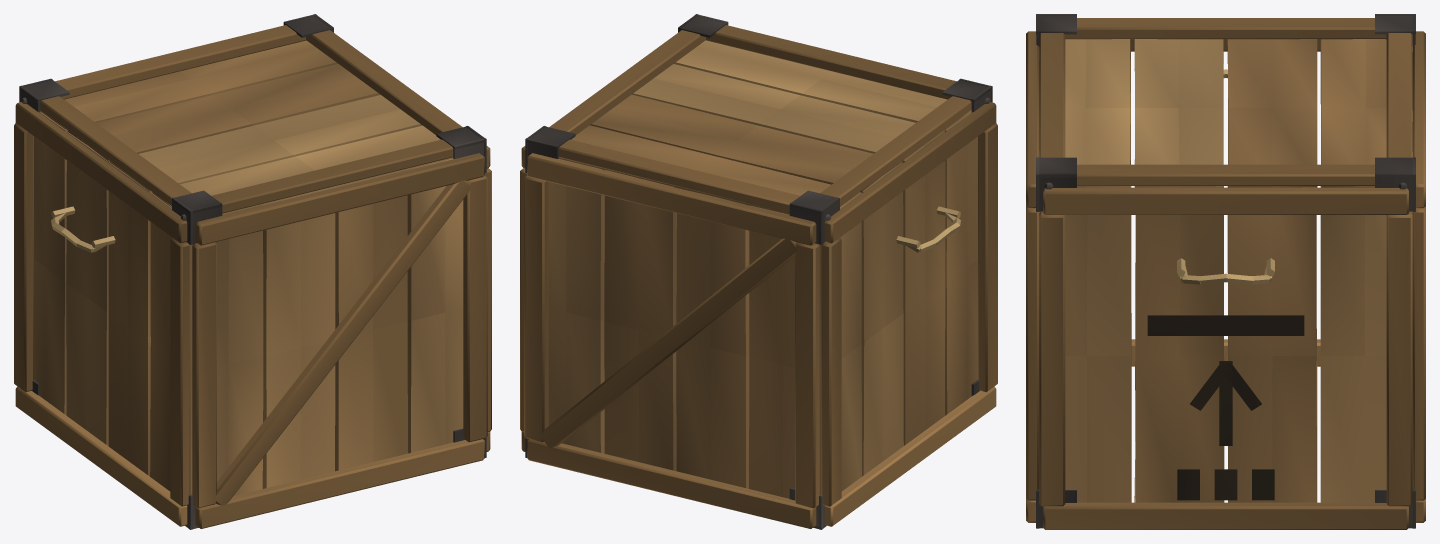
File: crate.glb
3 views of the same model, side by side, from view 1: azimuth 30°, elevation 25°; view 2: azimuth 150°, elevation 25°; view 3: azimuth 270°, elevation 25° (orthographic). The views are drawn at different scales.
Parts seen in each view (by area): view 1: Body; view 2: Body; view 3: Body.
Part boxes in pixels (x1,y1,x2,y2): Body: (14, 14, 491, 529); Body: (520, 14, 997, 529); Body: (1026, 14, 1425, 529).
Bounding box in the file's own units: 1.32 × 1.04 × 1.07.
